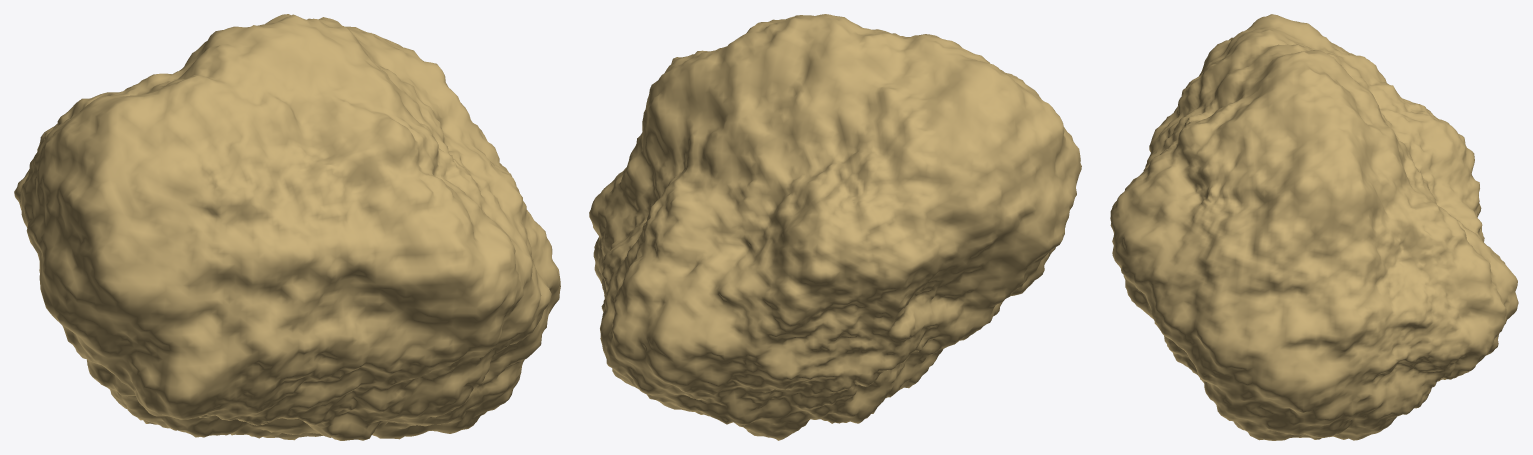
File: asteroid_03.dae
3 views of the same model, side by side, from view 1: azimuth 30°, elevation 25°; view 2: azimuth 150°, elevation 25°; view 3: azimuth 270°, elevation 25° (orthographic). The views are drawn at different scales.
Visible parts, largest first — view 1: Cube; view 2: Cube; view 3: Cube.
Part boxes in pixels (x1=…): Cube: x1=14, y1=14, x2=560, y2=440; Cube: x1=589, y1=14, x2=1081, y2=440; Cube: x1=1110, y1=14, x2=1518, y2=440.
Bounding box in the file's own units: 1.91 × 1.78 × 1.62.
